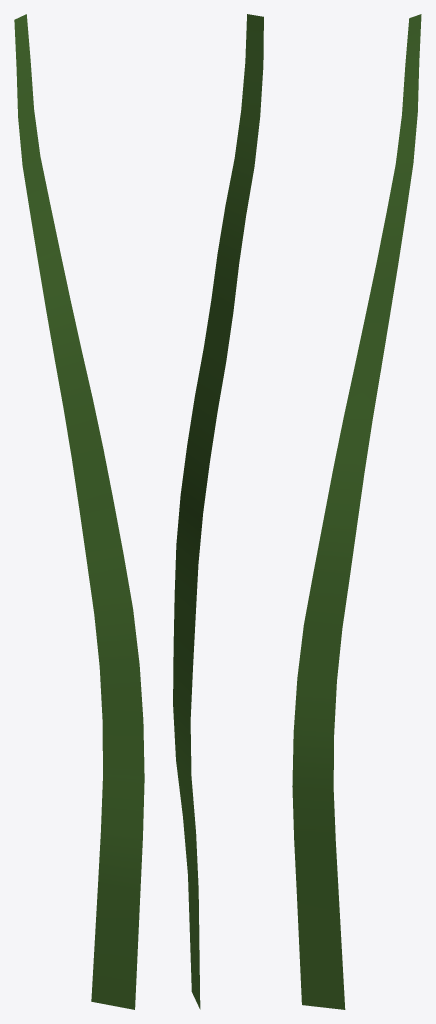
File: plant_swamp_kelp_giant_B_solo_G.fbx
3 views of the same model, side by side, from view 1: azimuth 90°, elevation 25°; view 2: azimuth 210°, elevation 25°; view 3: azimuth 270°, elevation 25° (orthographic). The views are drawn at different scales.
Visible parts, largest first — view 1: plant_swamp_kelp_giant_B_solo_G; view 2: plant_swamp_kelp_giant_B_solo_G; view 3: plant_swamp_kelp_giant_B_solo_G.
Boxes of the visible parts, x1,y1,x2,y2 form: plant_swamp_kelp_giant_B_solo_G: [14, 14, 144, 1009]; plant_swamp_kelp_giant_B_solo_G: [173, 14, 263, 1009]; plant_swamp_kelp_giant_B_solo_G: [292, 14, 421, 1009].
Bounding box in the file's own units: 11.36 × 332 × 39.37.
